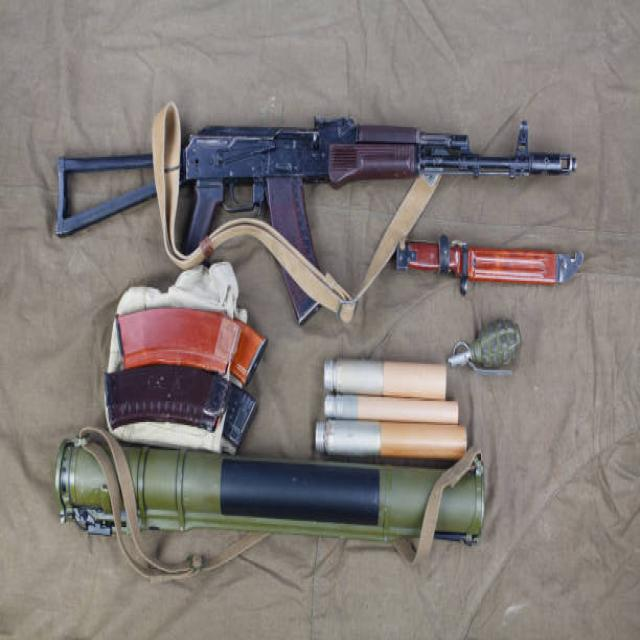grenade: (445, 317, 526, 377)
